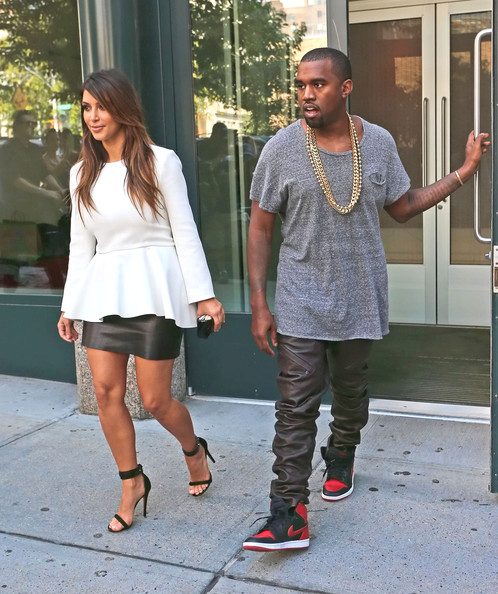Person: (244, 50, 463, 548), (54, 75, 215, 514)
